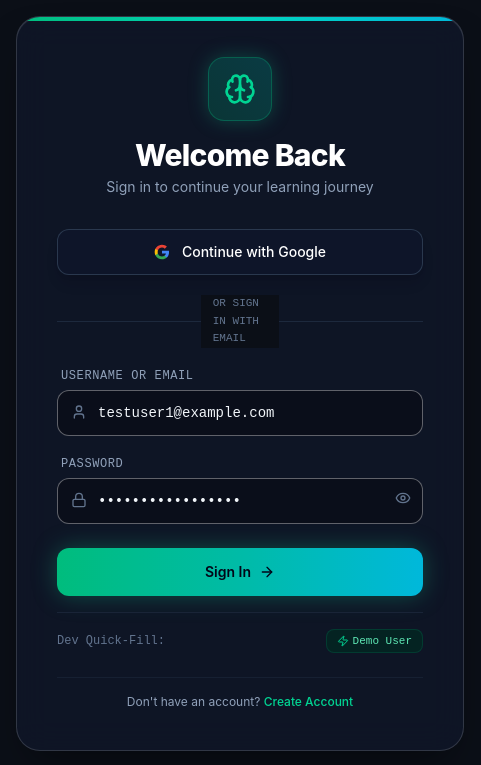
it: API client migrated authentication callers › rejects malformed login profiles before persisting any authentication state
Click the button "Sign In" at (240, 572), box [57,548,423,596]
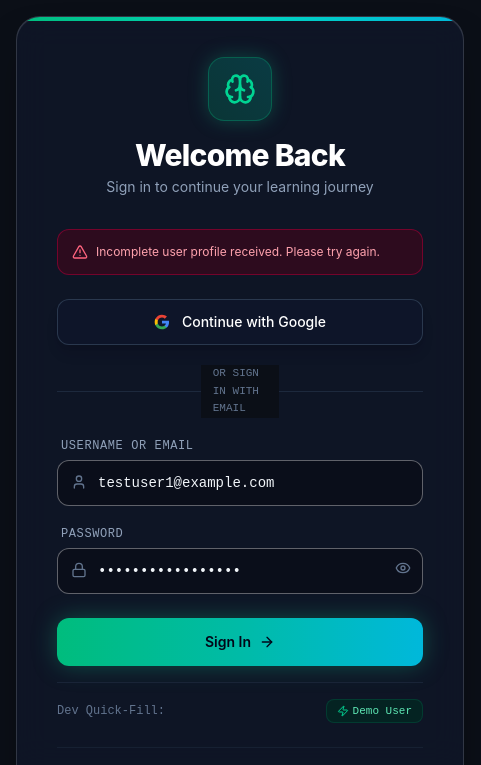
Expected: the text "Incomplete user profile received. Please try again." is shown, [96,244,380,260]
